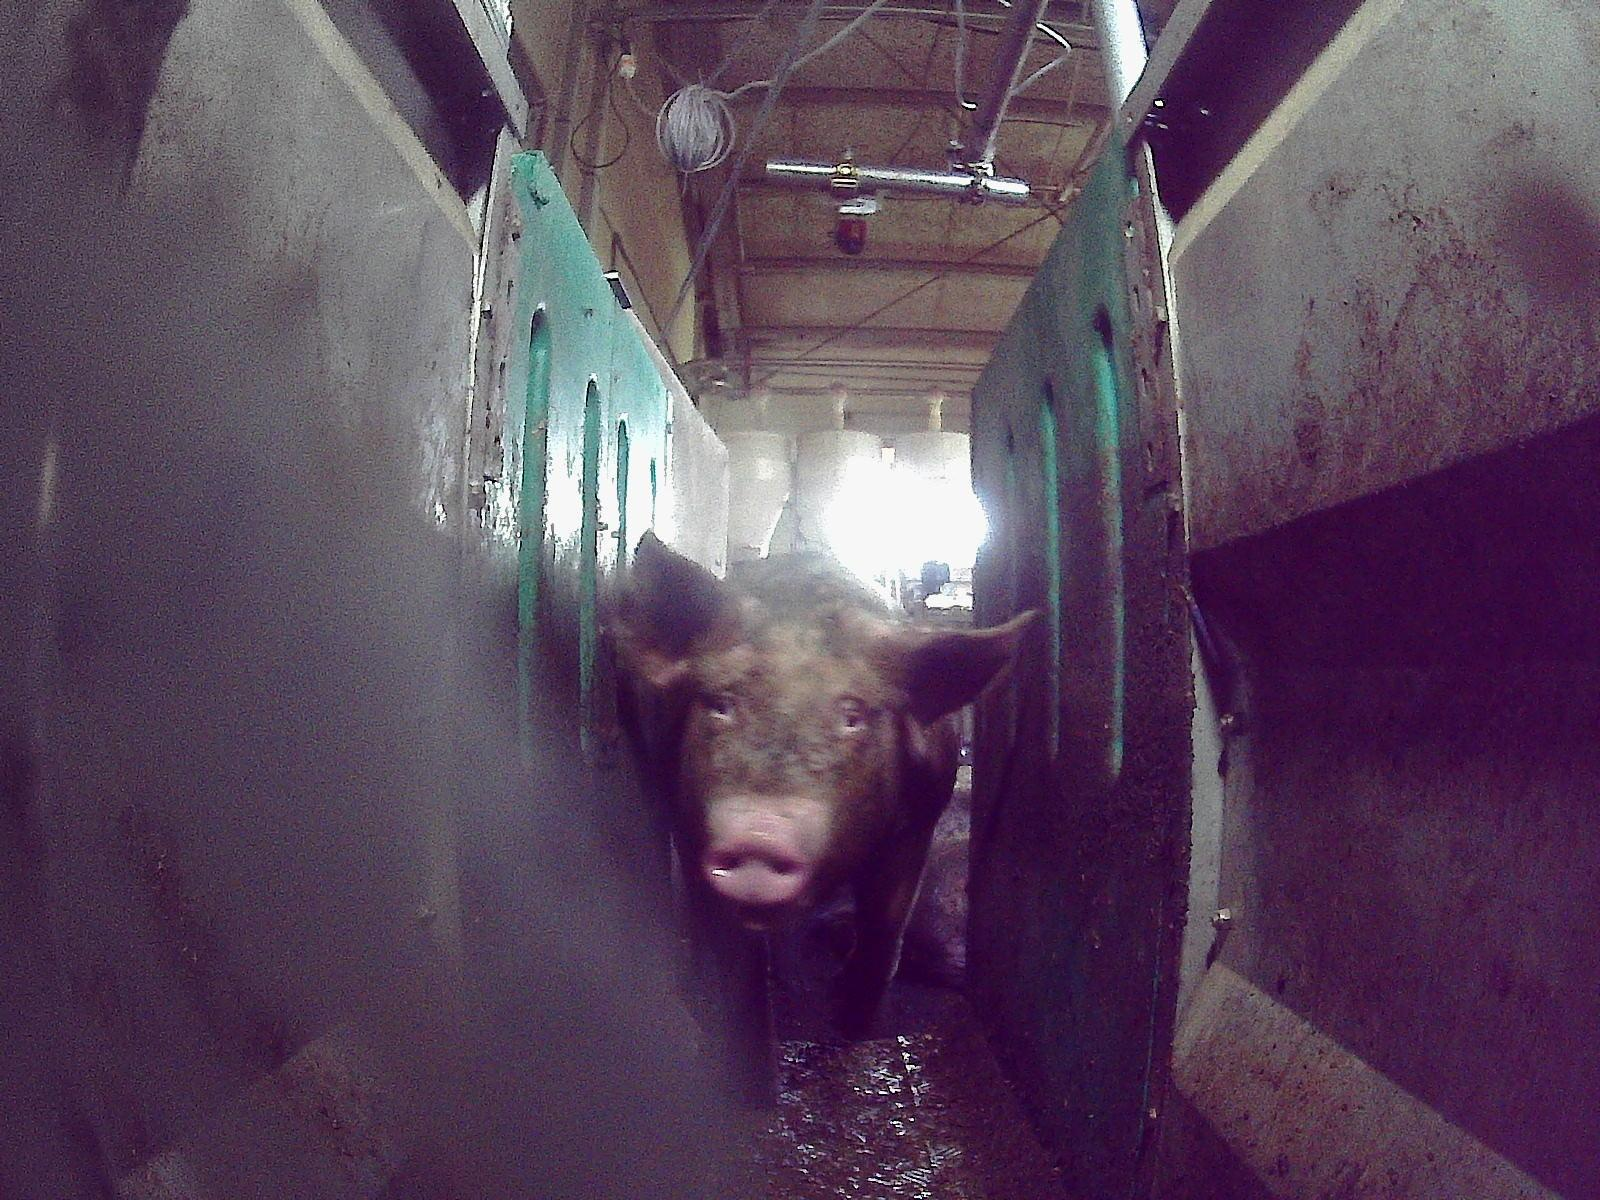Face: (683, 623, 909, 933)
